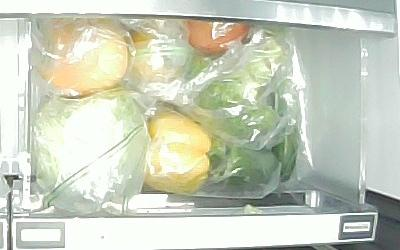apple_vinyl: (184, 20, 255, 56)
broccoli_vinyl: (189, 33, 291, 139)
cucumber_vinyl: (266, 28, 302, 184)
grapefruit_vinyl: (36, 19, 129, 93)
paprika_vinyl: (145, 109, 211, 195), (204, 143, 280, 194)
persimmon_vinyl: (131, 28, 179, 80)
